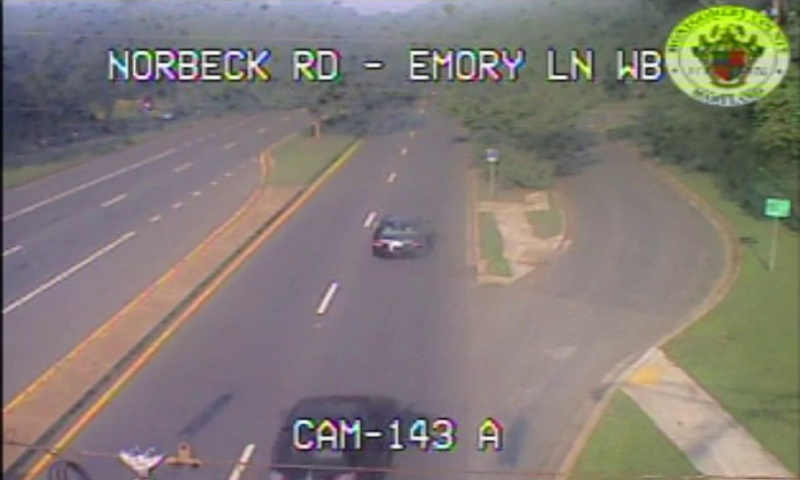car: (370, 214, 423, 257)
